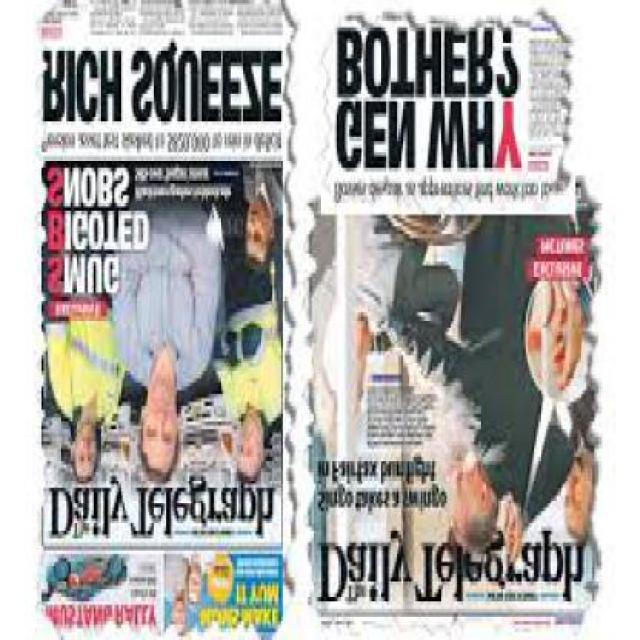PAPER: (305, 19, 590, 628), (40, 4, 280, 636)
